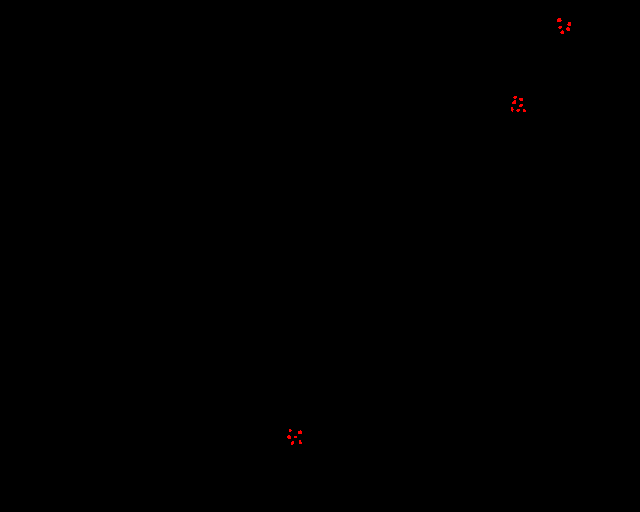Target: (557, 18, 562, 22), (567, 22, 571, 26), (566, 27, 570, 31), (560, 30, 564, 34), (512, 100, 516, 104), (298, 430, 302, 434), (287, 435, 291, 439), (511, 107, 514, 112), (558, 26, 562, 29), (513, 96, 517, 99), (519, 98, 523, 101), (519, 104, 523, 107), (516, 109, 520, 112), (299, 440, 302, 444), (291, 441, 294, 445), (523, 109, 526, 112), (289, 429, 292, 432), (294, 436, 297, 438)
